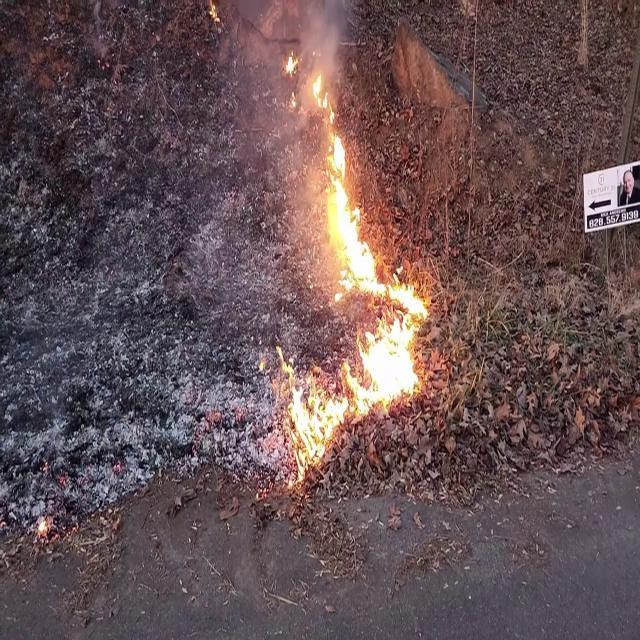Fire: (273, 285, 434, 498), (307, 76, 382, 302)
Smoke: (250, 0, 349, 91)
